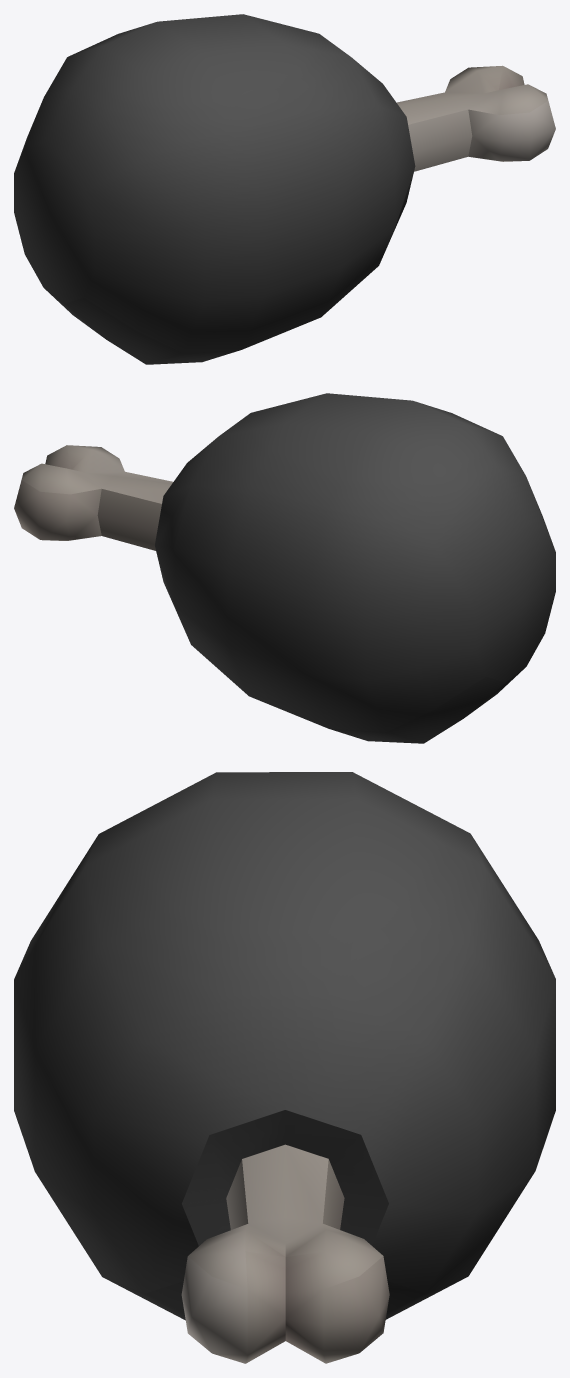
File: kay-food_ingredient_ham_trash.glb
3 views of the same model, one above another, from view 1: azimuth 30°, elevation 25°; view 2: azimuth 150°, elevation 25°; view 3: azimuth 270°, elevation 25° (orthographic). The views are drawn at different scales.
Parts seen in each view (by area): view 1: food_ingredient_ham_trash; view 2: food_ingredient_ham_trash; view 3: food_ingredient_ham_trash.
Part boxes in pixels (box(x1,y1,x2,y2)): food_ingredient_ham_trash: box(14, 14, 555, 364); food_ingredient_ham_trash: box(14, 393, 555, 743); food_ingredient_ham_trash: box(14, 772, 555, 1363).
Size of the model in its own units: 0.22 by 0.1313 by 0.1313.
1 material, 1 textured.
